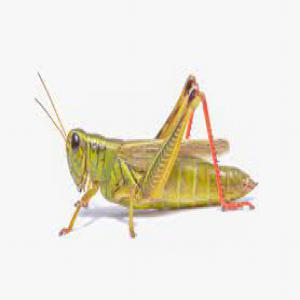locust: (31, 84, 269, 243)
